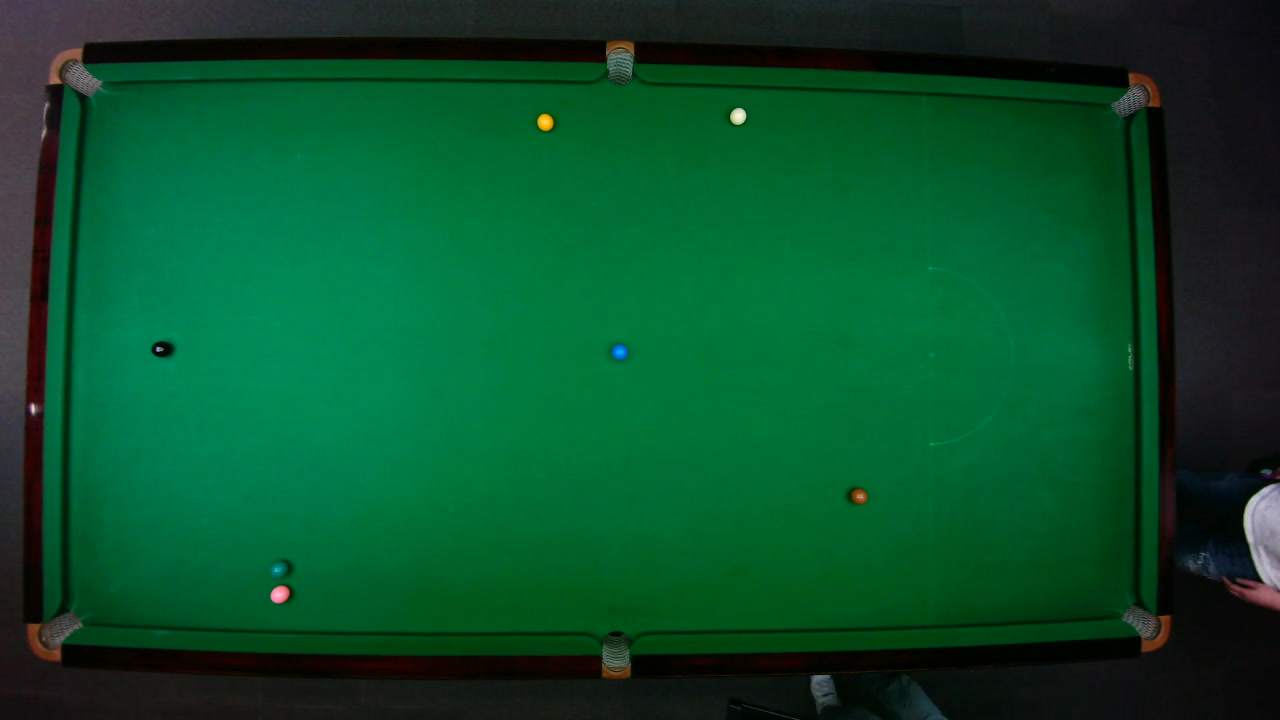bag: (24, 609, 84, 661), (46, 47, 102, 97), (1119, 603, 1171, 651), (1108, 71, 1161, 118), (600, 629, 630, 680), (605, 39, 633, 85)
black: (149, 339, 172, 357)
blue: (610, 342, 628, 360)
brown: (848, 487, 868, 504)
green: (268, 558, 289, 576)
pink: (268, 583, 290, 604)
white: (728, 106, 747, 125)
yellow: (535, 112, 554, 131)
zone: (927, 266, 1013, 445)
